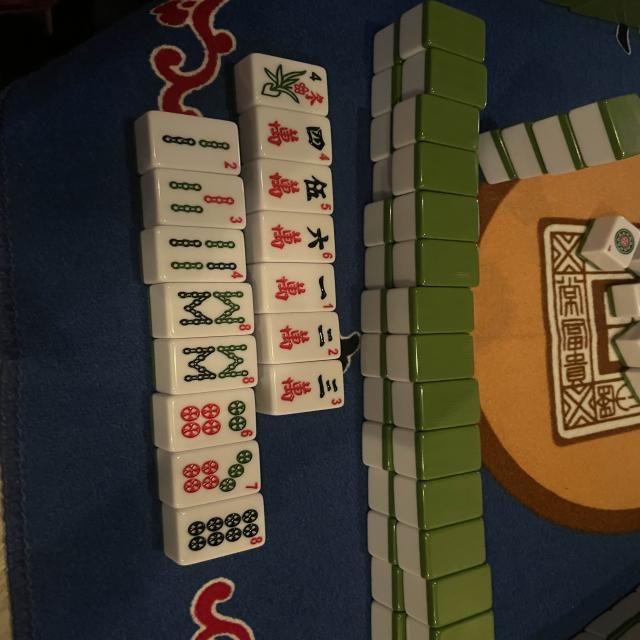ff4: (254, 60, 327, 113)
m1: (257, 264, 333, 313)
m2: (269, 316, 340, 360)
m3: (270, 364, 346, 416)
m4: (259, 112, 331, 166)
m5: (261, 164, 332, 213)
m6: (260, 217, 334, 263)
s2: (151, 120, 238, 174)
s3: (160, 175, 242, 223)
s4: (161, 231, 245, 282)
s8: (172, 288, 252, 336), (175, 341, 254, 389)
t1: (605, 217, 640, 269)
t6: (172, 395, 255, 450)
t7: (174, 446, 260, 508)
t8: (178, 495, 265, 565)
